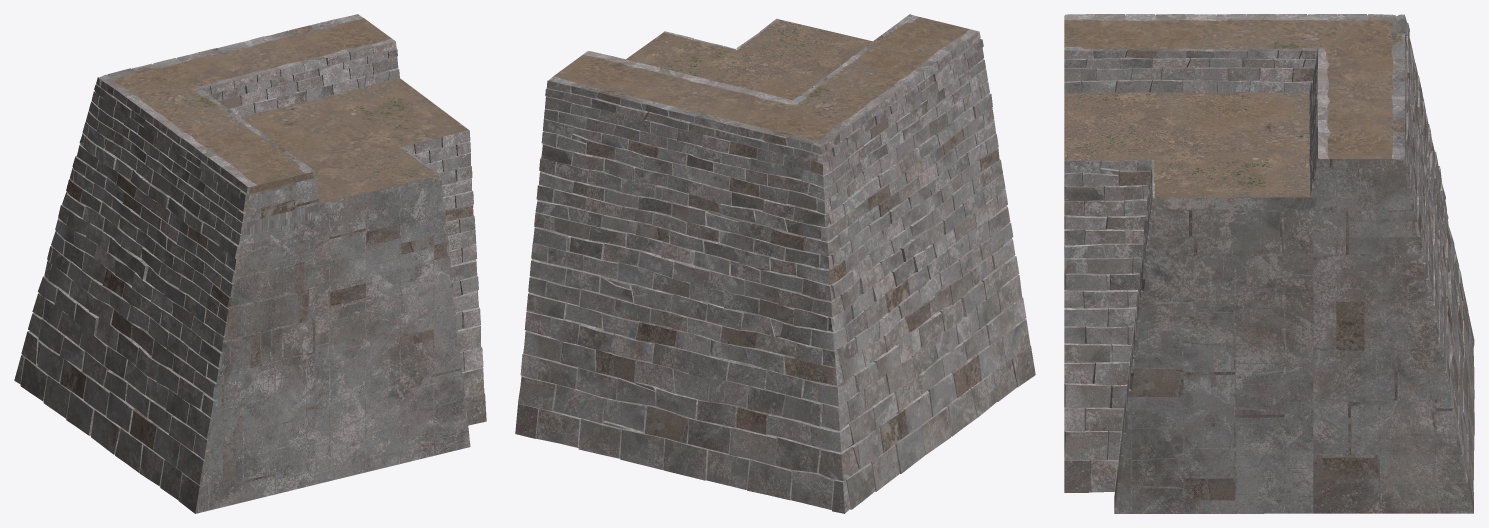
Rendered from SM_Outer_Castle02a.fbx.
The picture shows the model from 3 angles, left to right: view 1: azimuth 30°, elevation 25°; view 2: azimuth 150°, elevation 25°; view 3: azimuth 270°, elevation 25°; orthographic projection. The views are drawn at different scales.
Visible parts, largest first — view 1: SM_Outer_Castle02a; view 2: SM_Outer_Castle02a; view 3: SM_Outer_Castle02a.
Part boxes in pixels (box(x1,y1,x2,y2)): SM_Outer_Castle02a: box(14, 14, 486, 513); SM_Outer_Castle02a: box(515, 14, 1035, 513); SM_Outer_Castle02a: box(1064, 14, 1474, 513).
Bounding box in the file's own units: 417 × 416 × 399.
2 materials, 2 textured.
